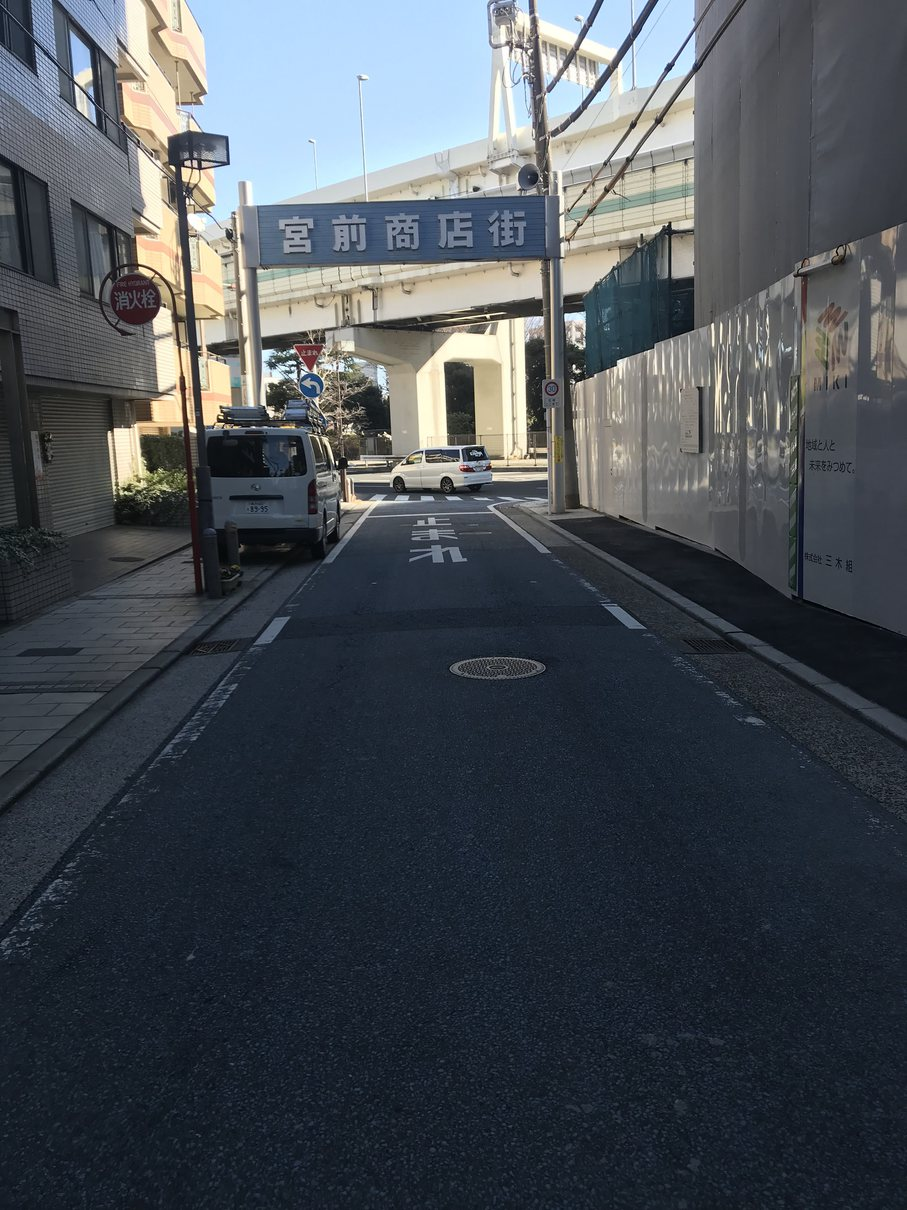stop_sign: (292, 342, 325, 372)
